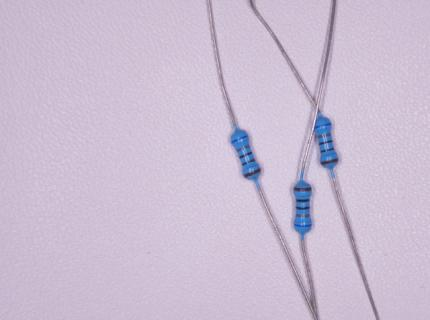Black band: (239, 151, 253, 160), (242, 158, 256, 166), (319, 140, 333, 146), (320, 148, 334, 153), (296, 199, 310, 203), (296, 206, 310, 210)
Blue band: (231, 134, 249, 144), (314, 123, 332, 129), (294, 224, 312, 227)
Brown band: (244, 168, 261, 178), (320, 158, 338, 165), (294, 188, 312, 191)
Grey band: (236, 145, 250, 153), (317, 133, 332, 139), (296, 214, 310, 217)
